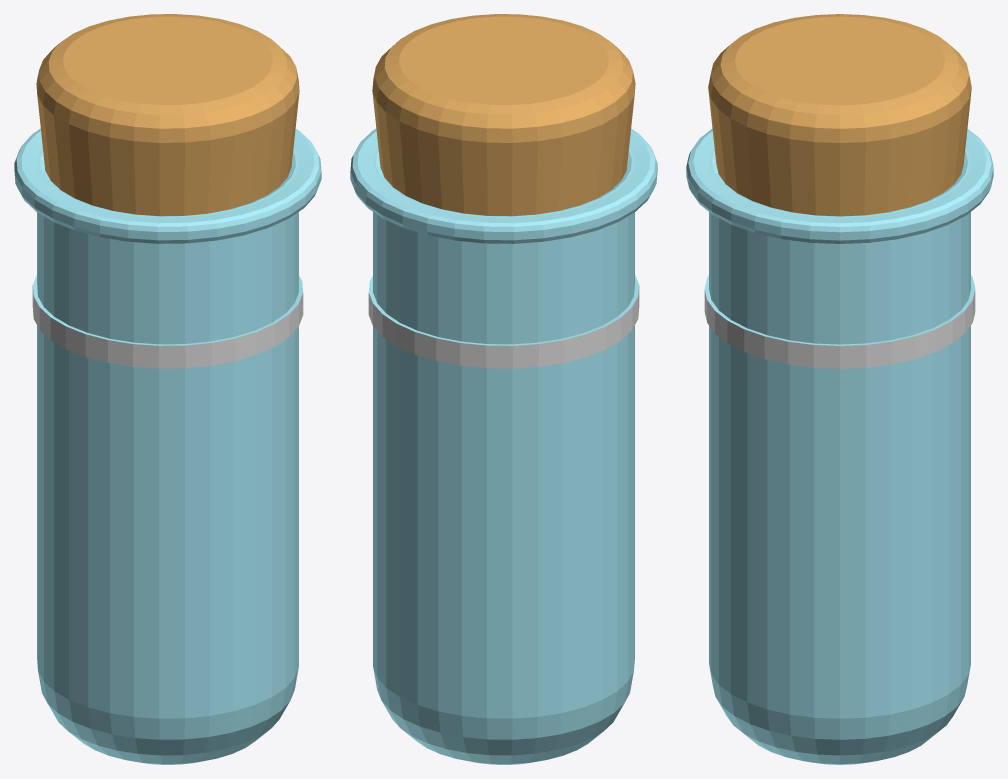
File: KırmızıCiva.fbx
3 renders of one model, left to right at view 1: azimuth 30°, elevation 25°; view 2: azimuth 150°, elevation 25°; view 3: azimuth 270°, elevation 25°, orthographic.
Visible parts, largest first — view 1: Cylinder.002; view 2: Cylinder.002; view 3: Cylinder.002.
Part boxes in pixels (x1=…): Cylinder.002: x1=14, y1=14, x2=321, y2=764; Cylinder.002: x1=350, y1=14, x2=657, y2=764; Cylinder.002: x1=686, y1=14, x2=993, y2=764.
Bounding box in the file's own units: 6.89 × 16.7 × 6.89.
